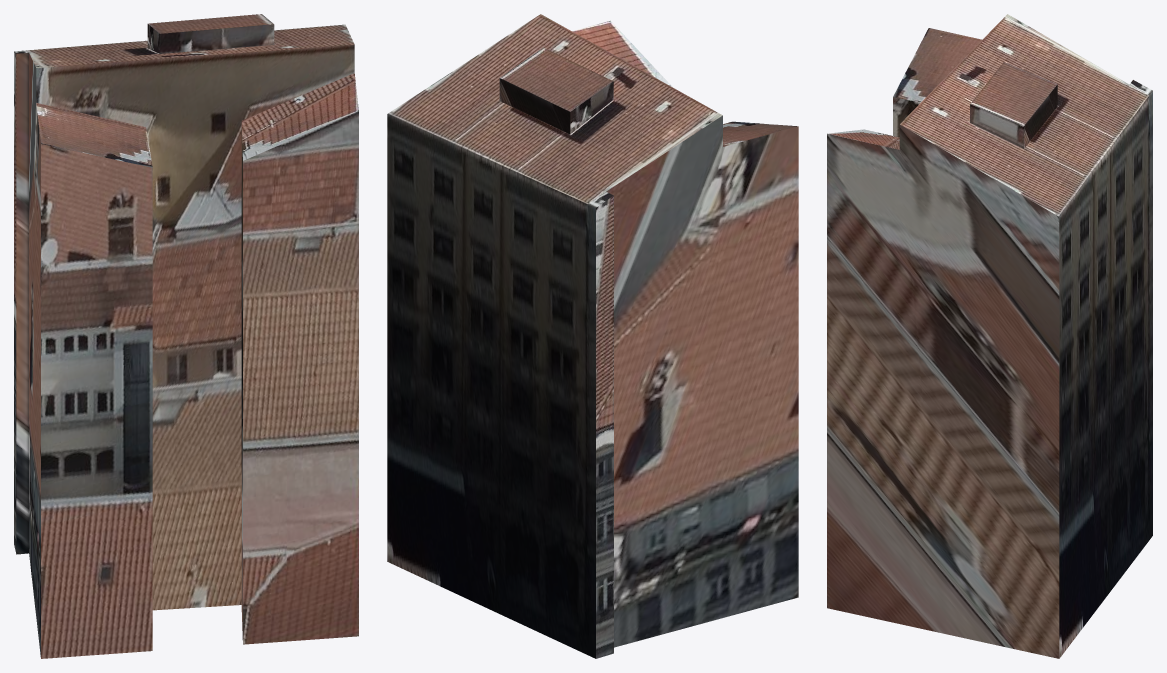
The picture shows the model from 3 angles, left to right: view 1: azimuth 30°, elevation 25°; view 2: azimuth 150°, elevation 25°; view 3: azimuth 270°, elevation 25°; orthographic projection. The views are drawn at different scales.
Visible parts, largest first — view 1: Z_UP; view 2: Z_UP; view 3: Z_UP.
Boxes of the visible parts, bbox=[...] form: Z_UP: bbox=[14, 14, 358, 658]; Z_UP: bbox=[387, 14, 798, 658]; Z_UP: bbox=[827, 14, 1152, 658].
Bounding box in the file's own units: 19.04 × 26.82 × 15.8.
Materials: 2 (1 with a texture image).
